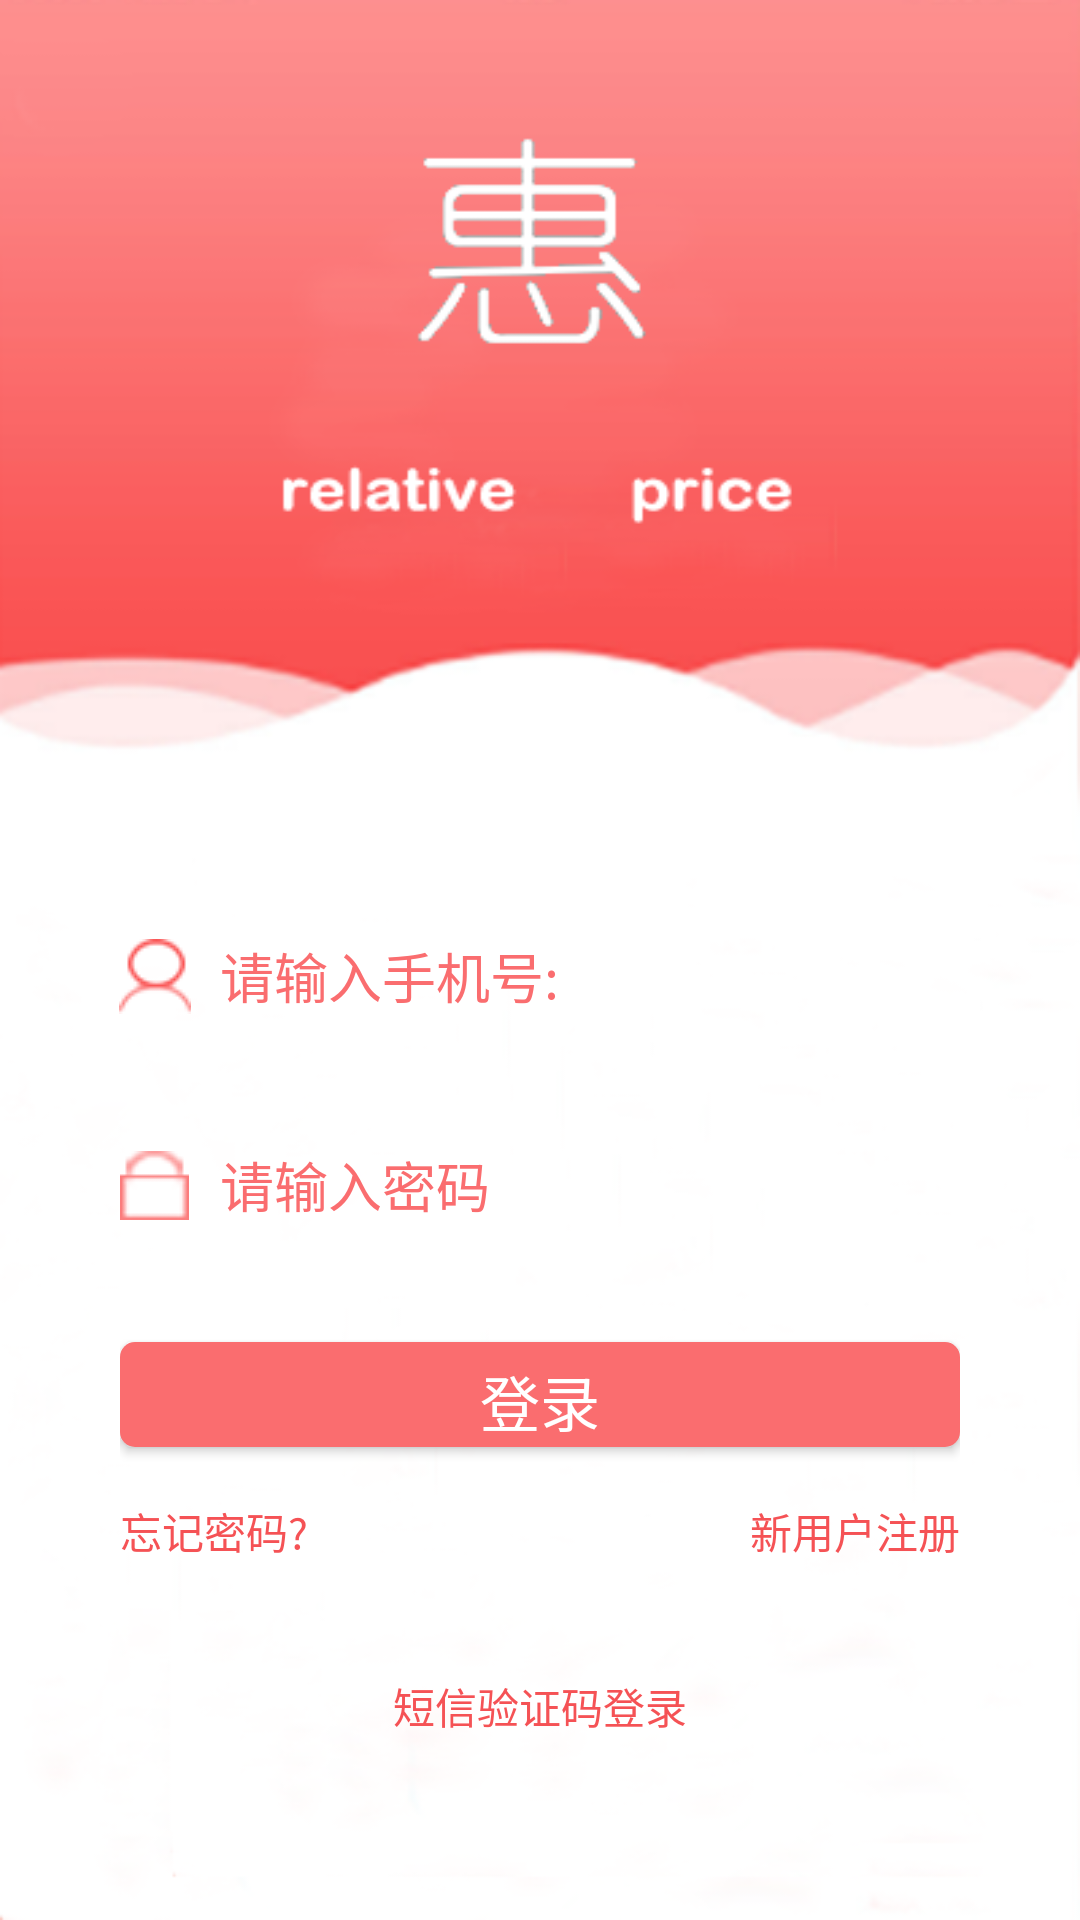

Icons on this 1080w x 1920h Android screen, each with the point to tap as point (x, y):
user: point (155, 975)
